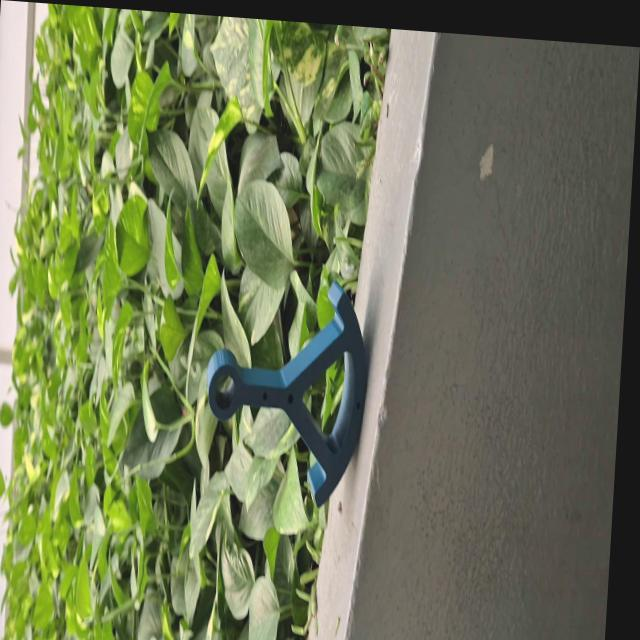haptic: (197, 268, 373, 514)
